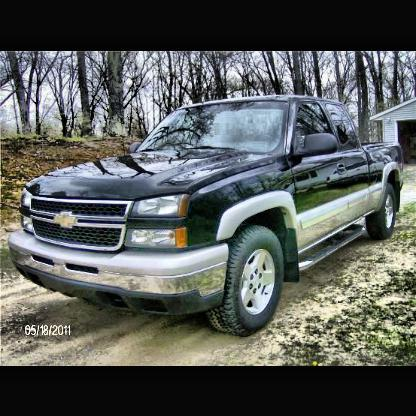Chevrolet Silverado 1500 Classic Extended Cab 2007: (11, 98, 402, 338)
